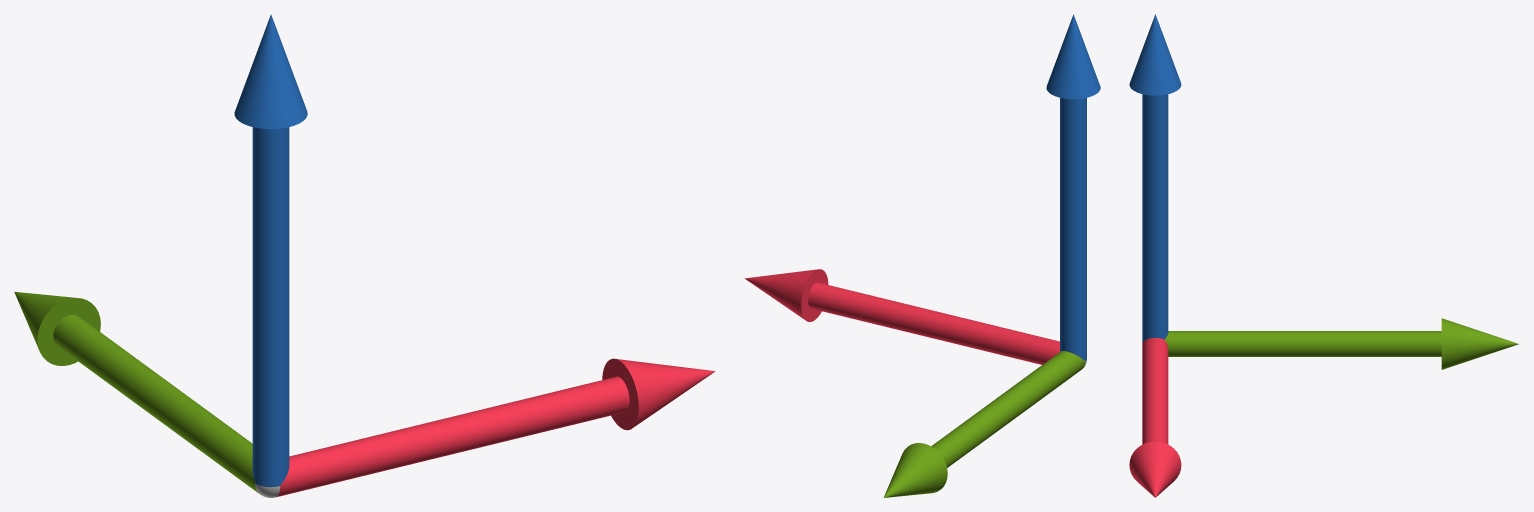
File: XYZaxis.obj
3 renders of one model, left to right at view 1: azimuth 30°, elevation 25°; view 2: azimuth 150°, elevation 25°; view 3: azimuth 270°, elevation 25°, orthographic. The views are drawn at different scales.
Parts seen in each view (by area): view 1: Cylinder, Cylinder.001, Cylinder.002; view 2: Cylinder, Cylinder.001, Cylinder.002; view 3: Cylinder.002, Cylinder, Cylinder.001.
Part boxes in pixels (box(x1,y1,x2,y2)): Cylinder: box(234, 14, 307, 487); Cylinder.001: box(277, 358, 715, 496); Cylinder.002: box(14, 291, 260, 494); Cylinder: box(1046, 14, 1100, 360); Cylinder.001: box(744, 269, 1060, 364); Cylinder.002: box(883, 351, 1085, 497); Cylinder.002: box(1165, 318, 1518, 369); Cylinder: box(1129, 14, 1181, 342); Cylinder.001: box(1129, 338, 1181, 497).
Size of the model in its own units: 3 by 3 by 3.
Materials: 2 (1 with a texture image).
